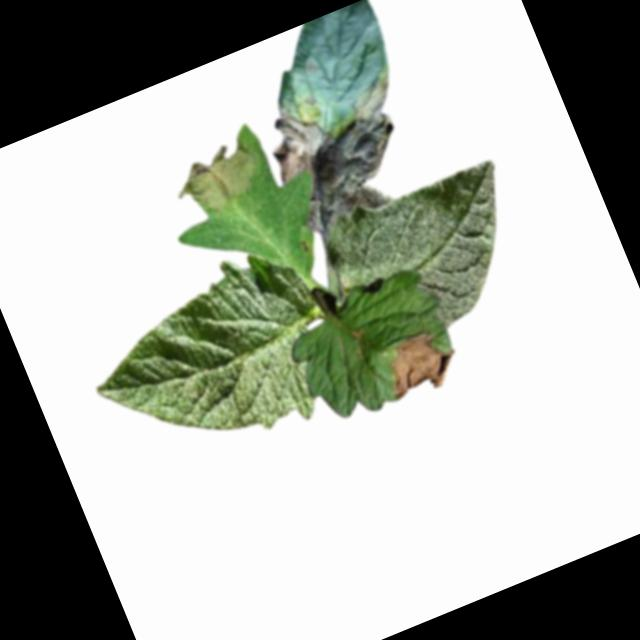Late_blight: (251, 59, 435, 238), (161, 135, 269, 225), (376, 322, 465, 404)
